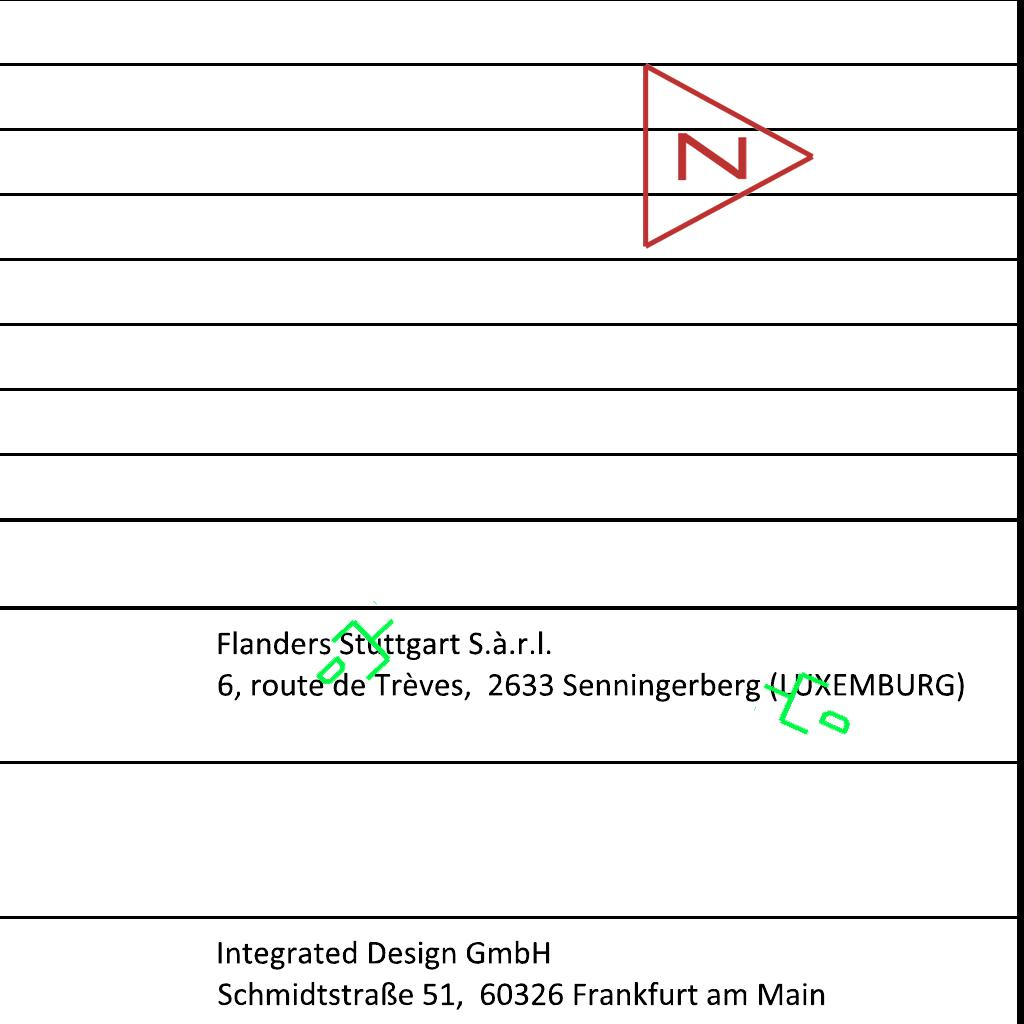Datenanschluss_einfach: (299, 594, 420, 714), (748, 651, 869, 755)
Zimmersignalleuchte: (628, 56, 828, 252)
